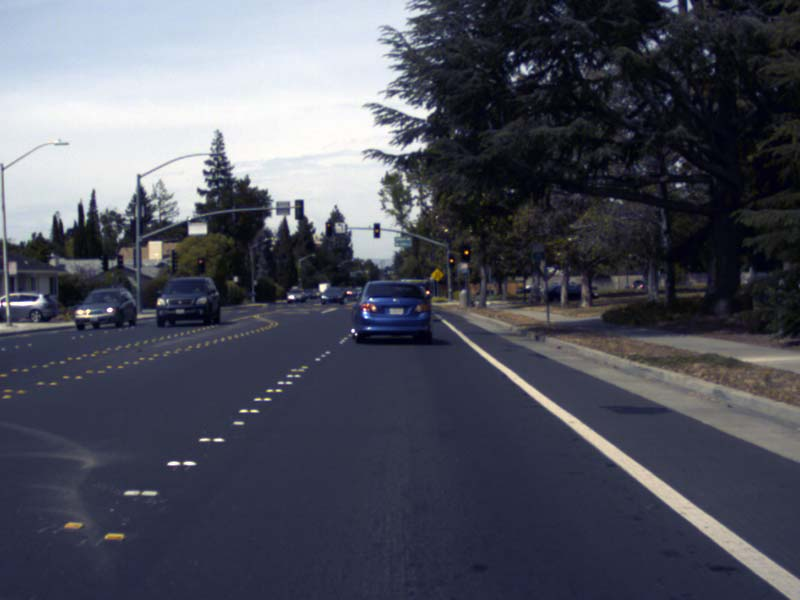Red: (197, 258, 203, 271), (326, 222, 331, 236)
Yellow: (461, 245, 470, 261), (448, 255, 454, 267), (374, 224, 379, 236)
